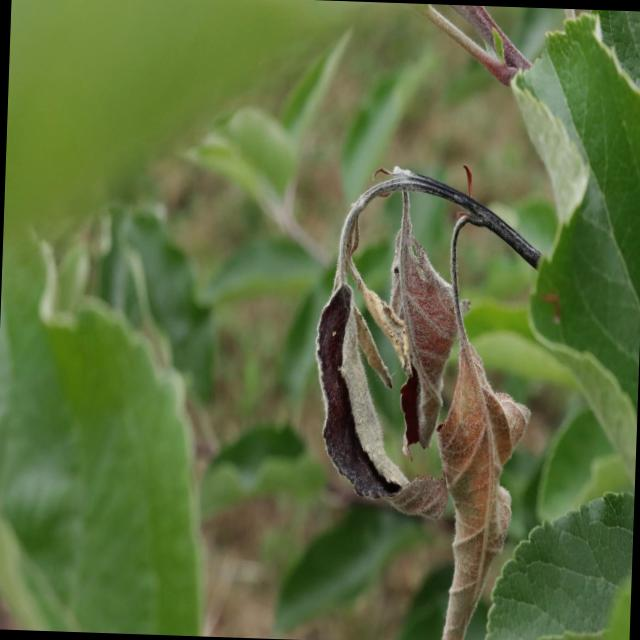-FireBlight-: (294, 170, 527, 640)
